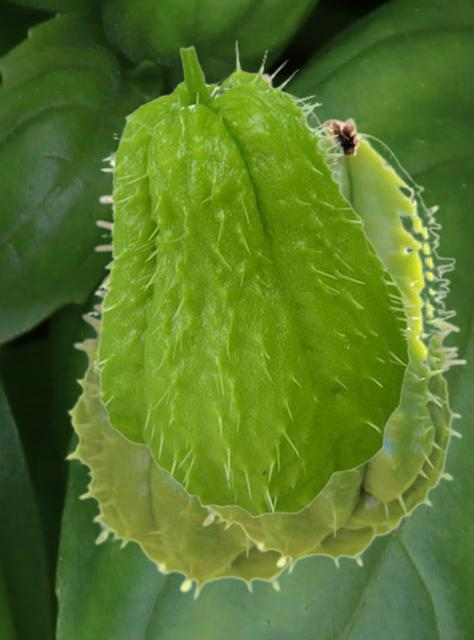sayote: (86, 39, 419, 517), (63, 71, 340, 600), (197, 116, 466, 574)
